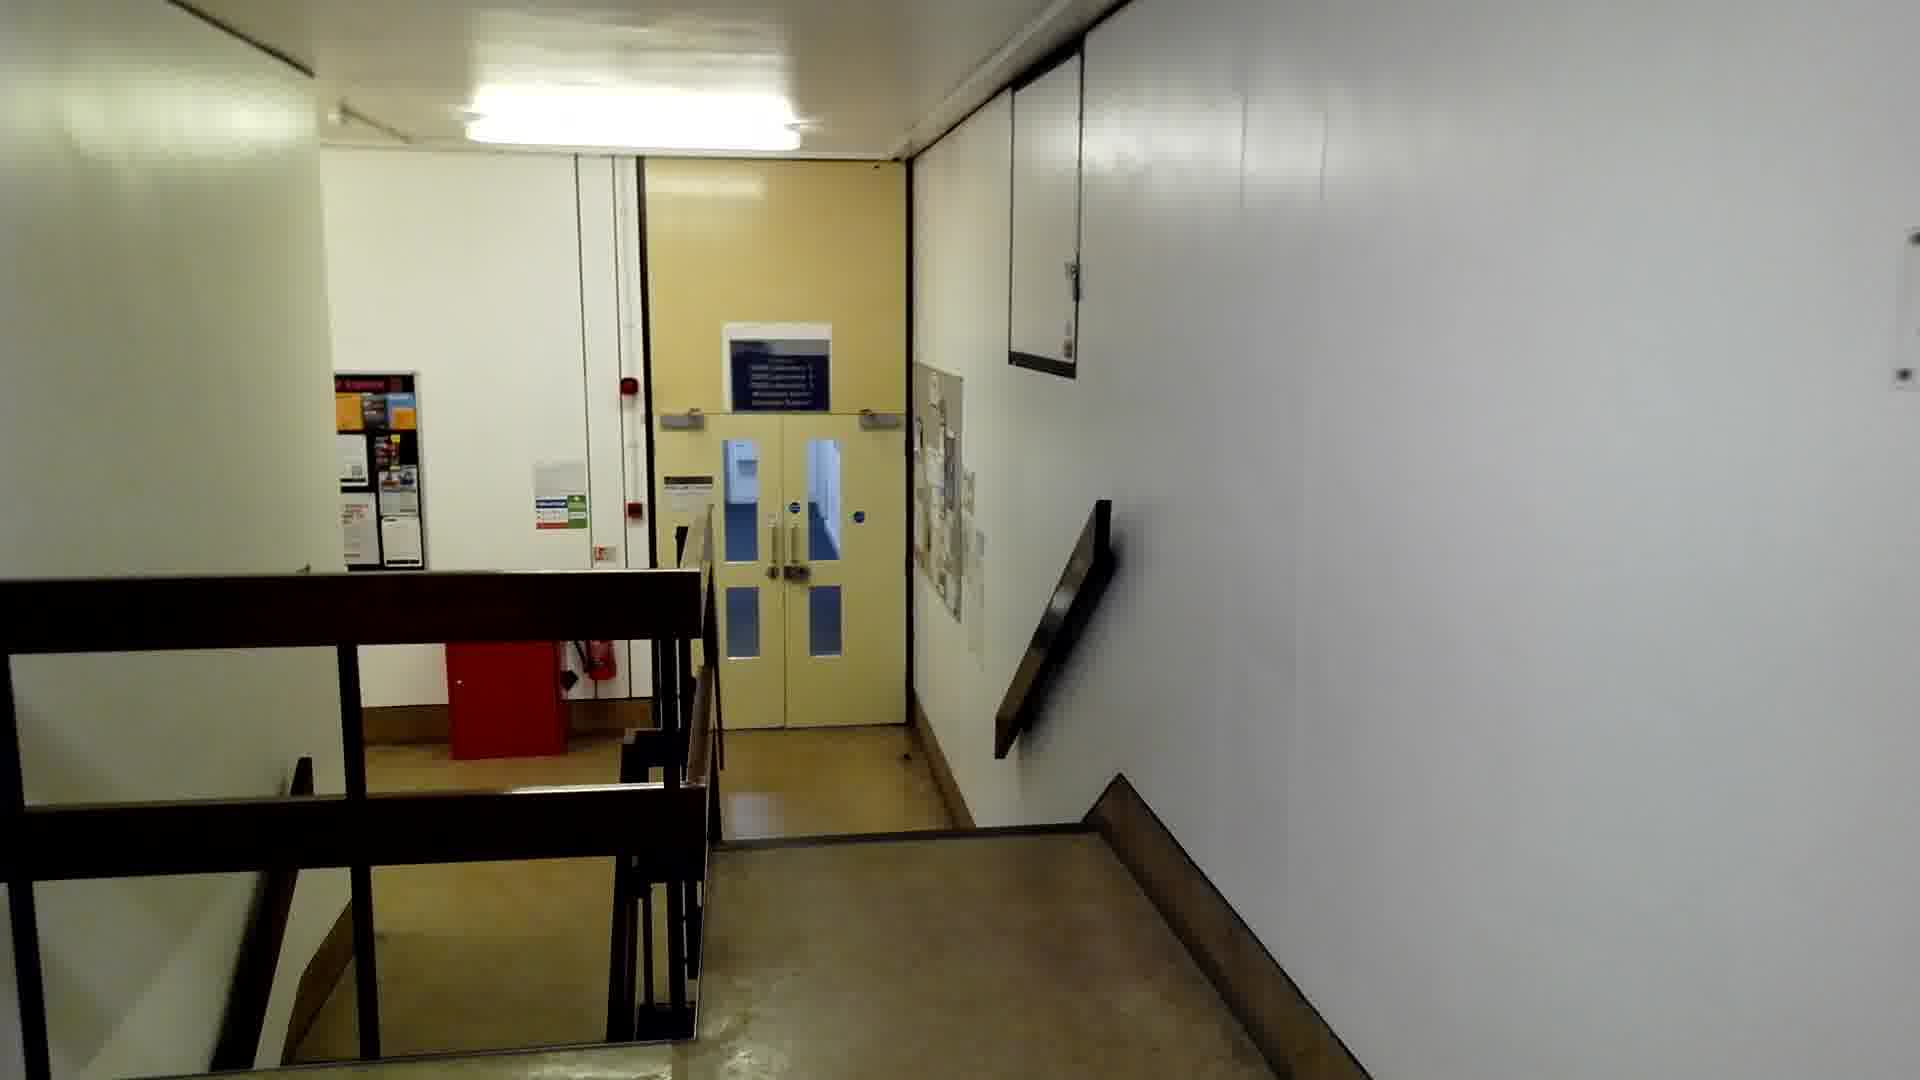Door: (644, 404, 916, 733)
